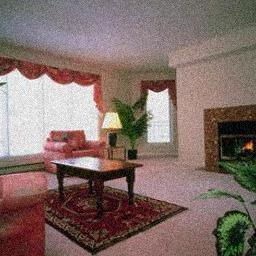Matera: (116, 98, 149, 158)
